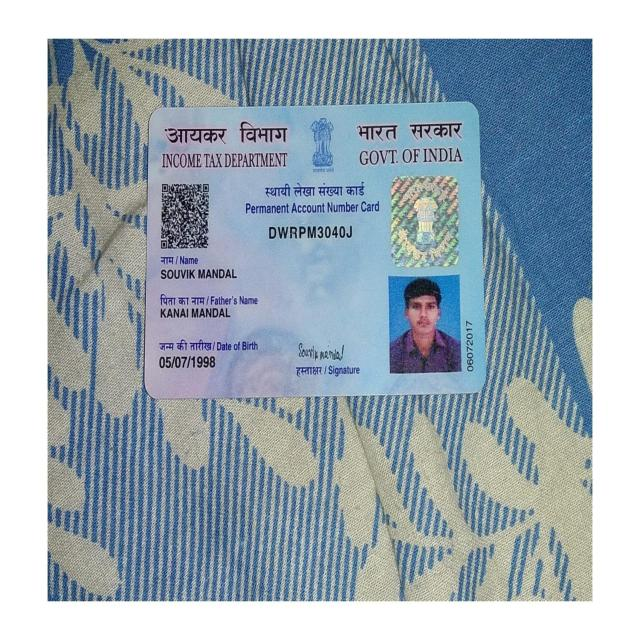pan_card: (146, 101, 484, 399)
